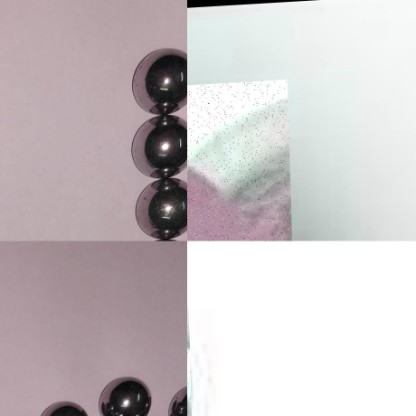ironball: (187, 81, 293, 241), (129, 45, 196, 113), (120, 116, 187, 179), (134, 179, 188, 241), (98, 373, 149, 414), (36, 394, 88, 414), (168, 383, 184, 414)
